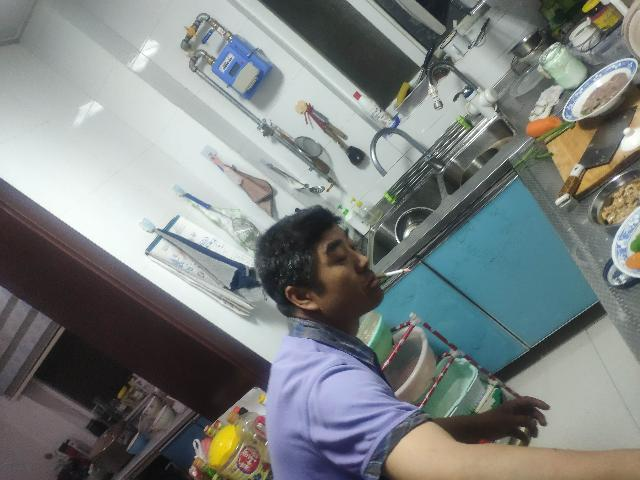Cigarette: (375, 268, 411, 280)
